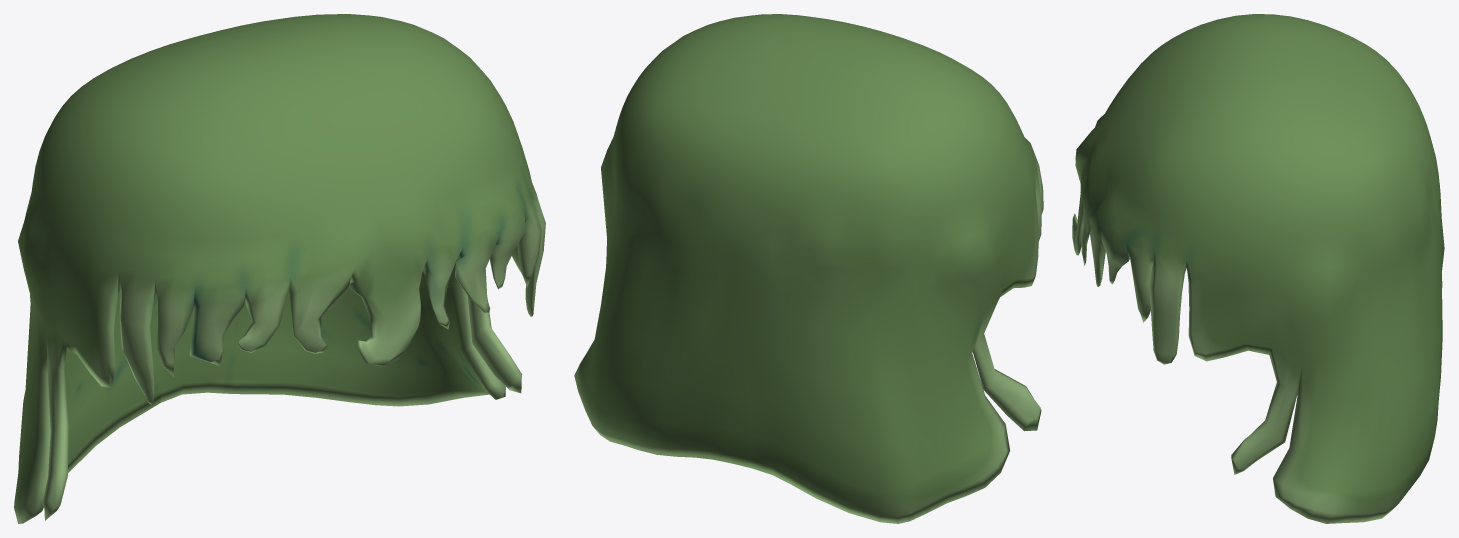
File: OG_Green.glb
3 views of the same model, side by side, from view 1: azimuth 30°, elevation 25°; view 2: azimuth 150°, elevation 25°; view 3: azimuth 270°, elevation 25° (orthographic). The views are drawn at different scales.
Visible parts, largest first — view 1: OG_Green; view 2: OG_Green; view 3: OG_Green.
Part boxes in pixels (left/top/right/bottom): OG_Green: left=14, top=14, right=545, bottom=523; OG_Green: left=574, top=14, right=1043, bottom=523; OG_Green: left=1072, top=14, right=1444, bottom=523.
Bounding box in the file's own units: 1.07 × 0.9721 × 0.8194.
Materials: 1 (1 with a texture image).
